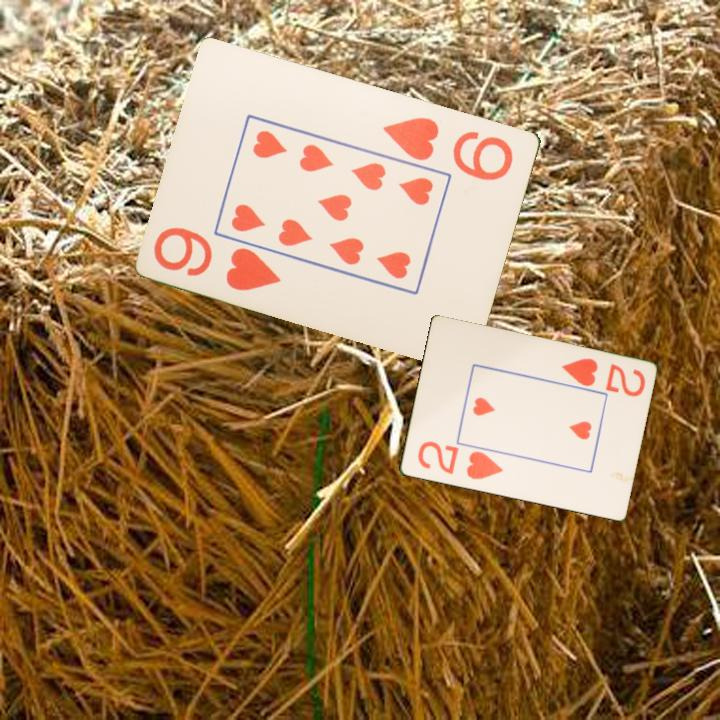2h: (414, 438, 506, 483), (558, 355, 648, 400)
9h: (379, 113, 517, 184), (150, 223, 285, 294)
